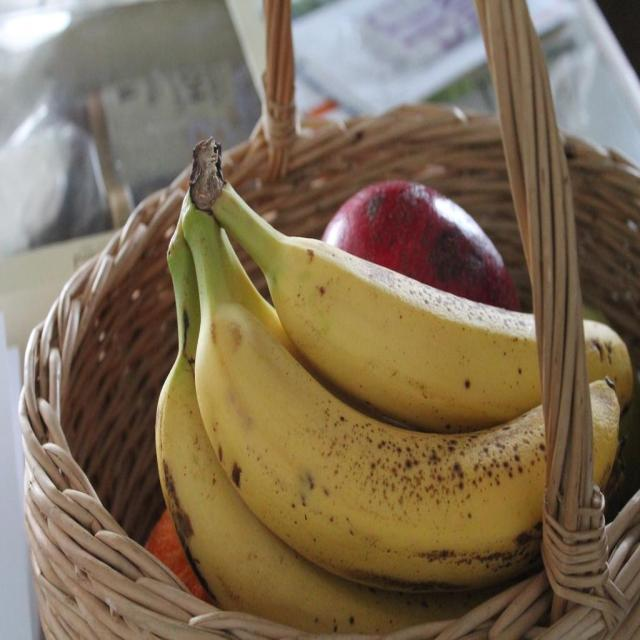banana: (182, 211, 548, 596), (212, 186, 542, 436)
